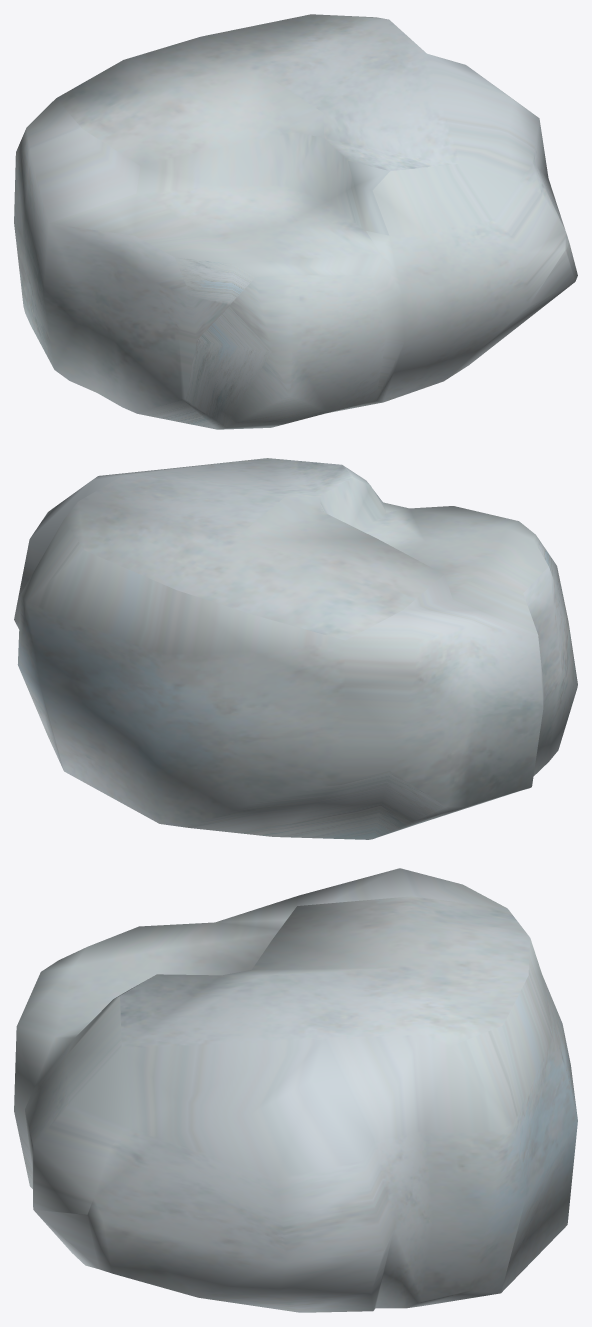
Rendered from P_RockDesert_Rock08.obj.
3 renders of one model, top to bottom at view 1: azimuth 30°, elevation 25°; view 2: azimuth 150°, elevation 25°; view 3: azimuth 270°, elevation 25°, orthographic. The views are drawn at different scales.
Bounding box in the file's own units: 1.61 × 0.847 × 1.34.
